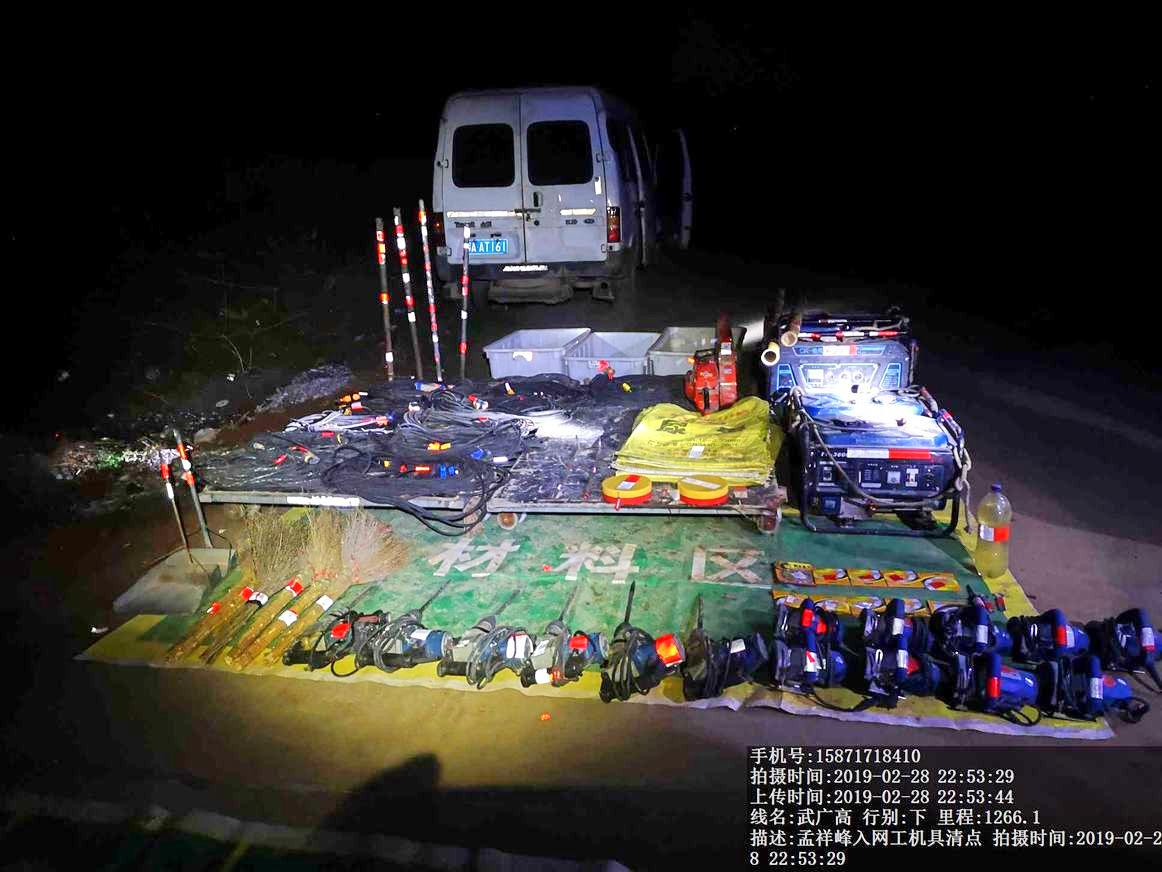BZD: (625, 392, 778, 484)
DJ: (784, 392, 963, 534), (759, 307, 923, 391)
DZ: (524, 572, 606, 698), (678, 582, 756, 709), (359, 573, 455, 671)
JC: (599, 471, 656, 511), (675, 475, 729, 512)
SB: (169, 522, 277, 664)
T: (479, 320, 583, 378), (578, 323, 657, 377)
